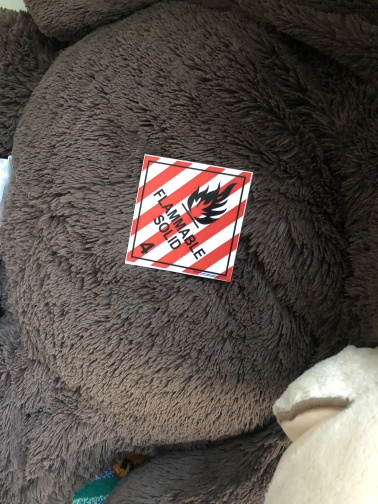FlammableSolid: (131, 154, 243, 286)
